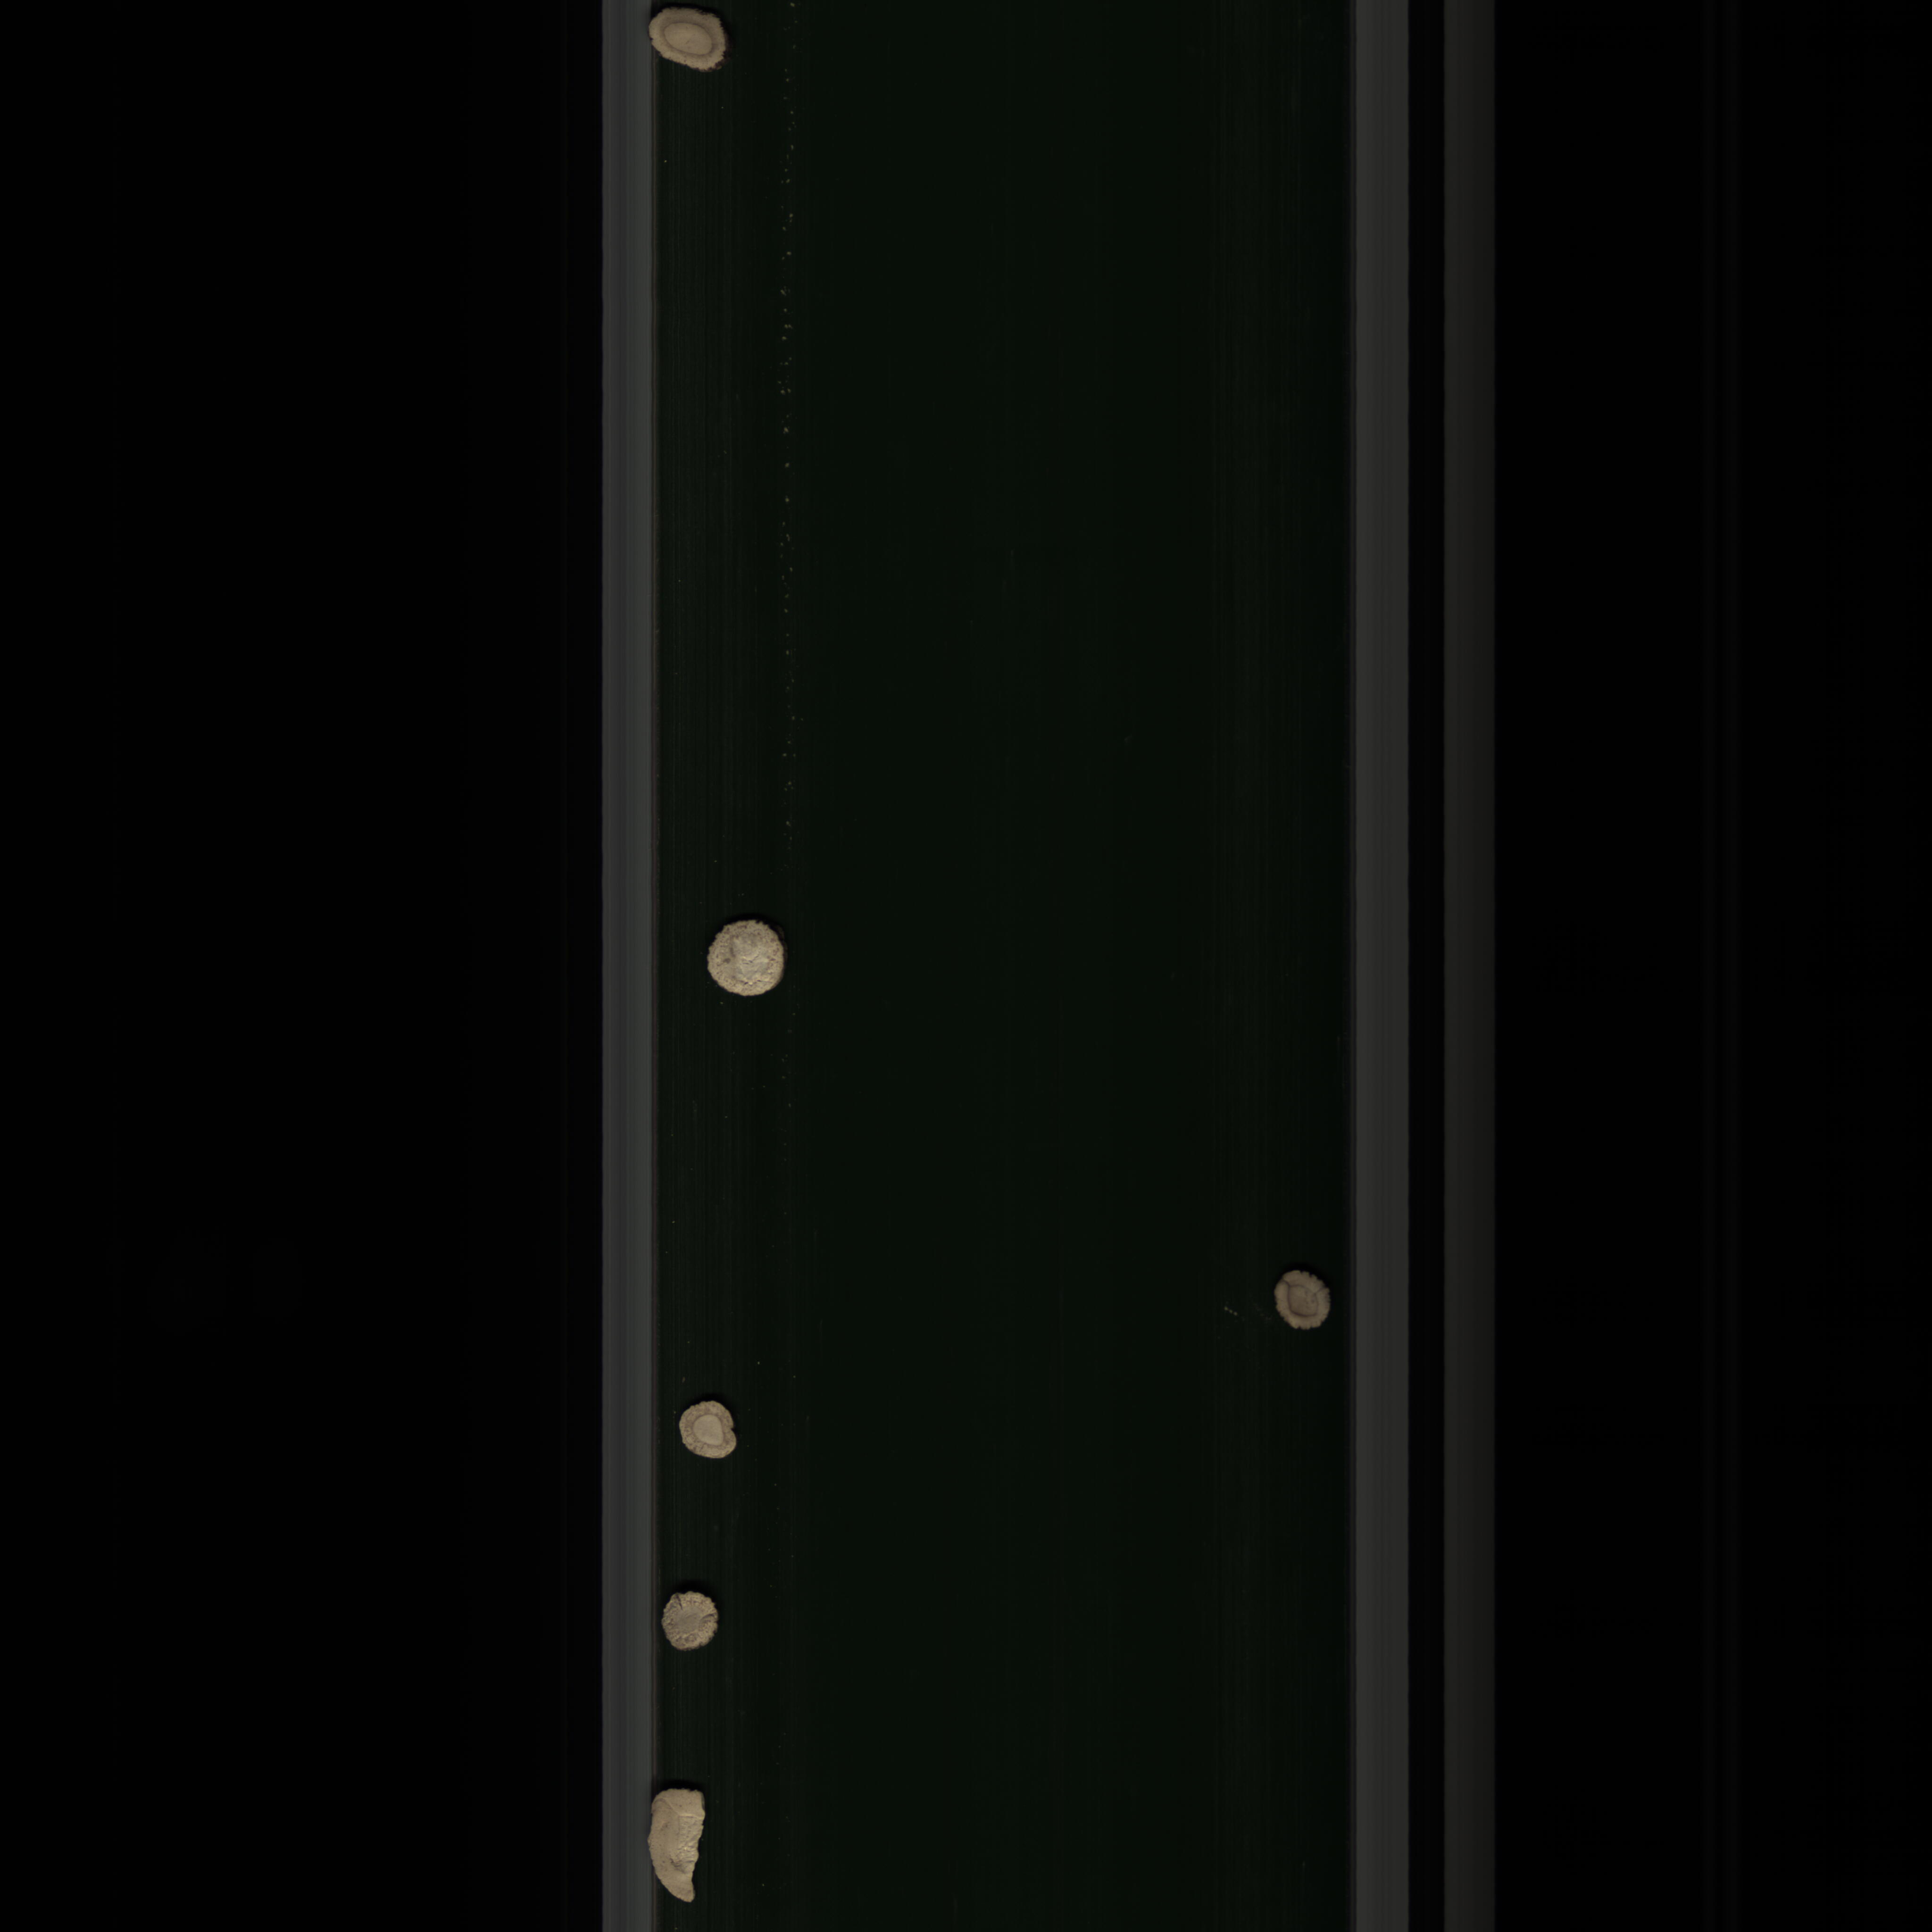debris: (642, 1782, 724, 1907)
moldy: (1269, 1263, 1338, 1339)
